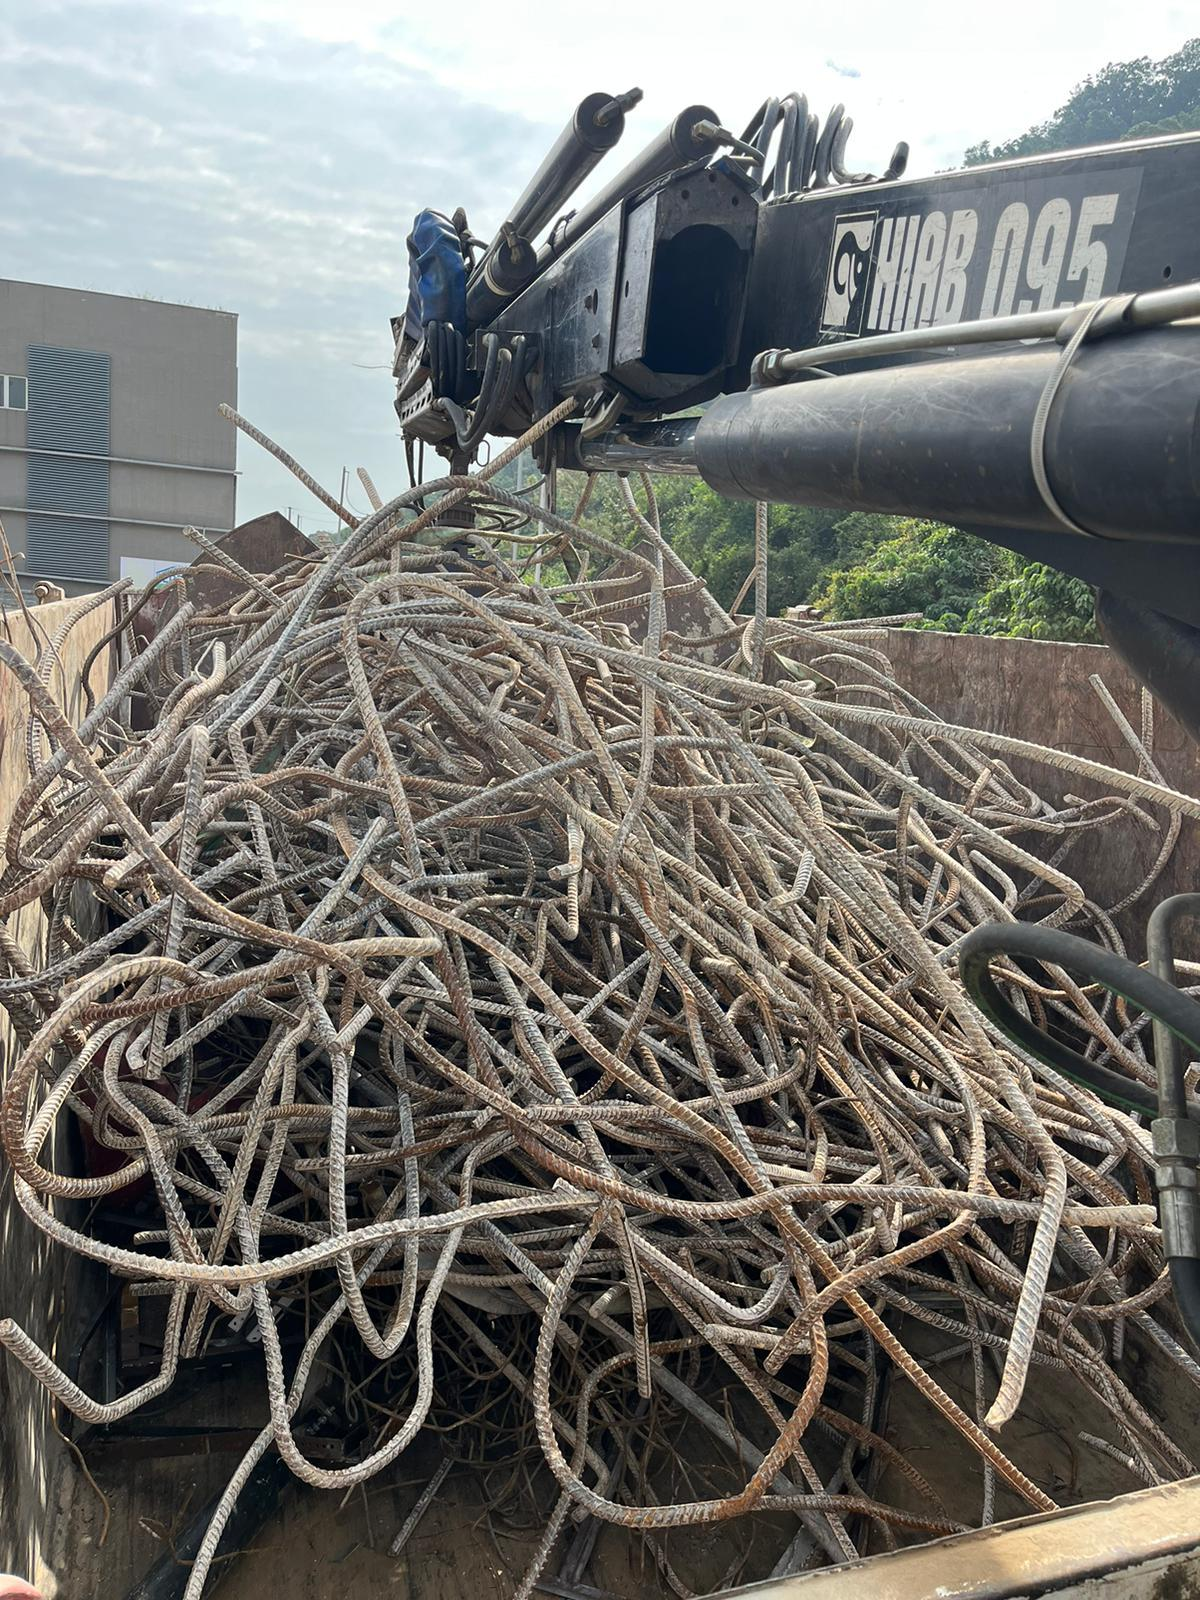dirt: (3, 477, 1197, 1597)
